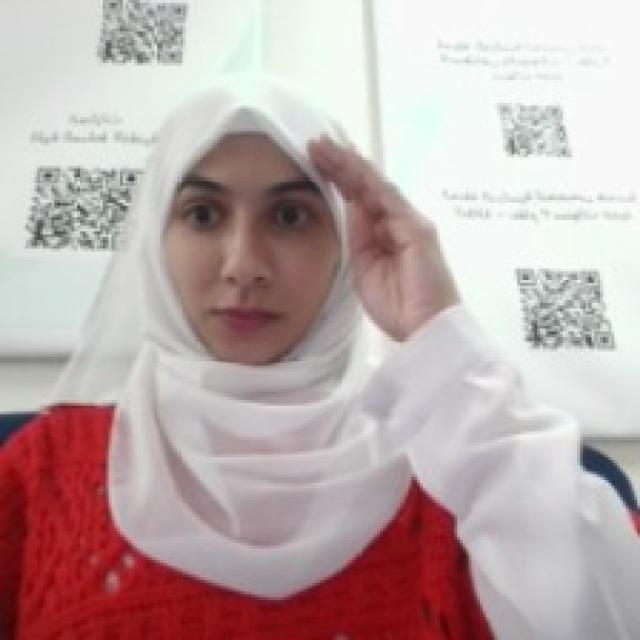Thanks: (303, 126, 454, 334)
